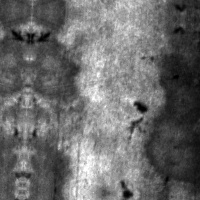inclusion: (125, 97, 148, 128), (31, 28, 53, 47)
patches: (146, 18, 199, 182), (27, 12, 86, 108), (23, 127, 72, 191)
